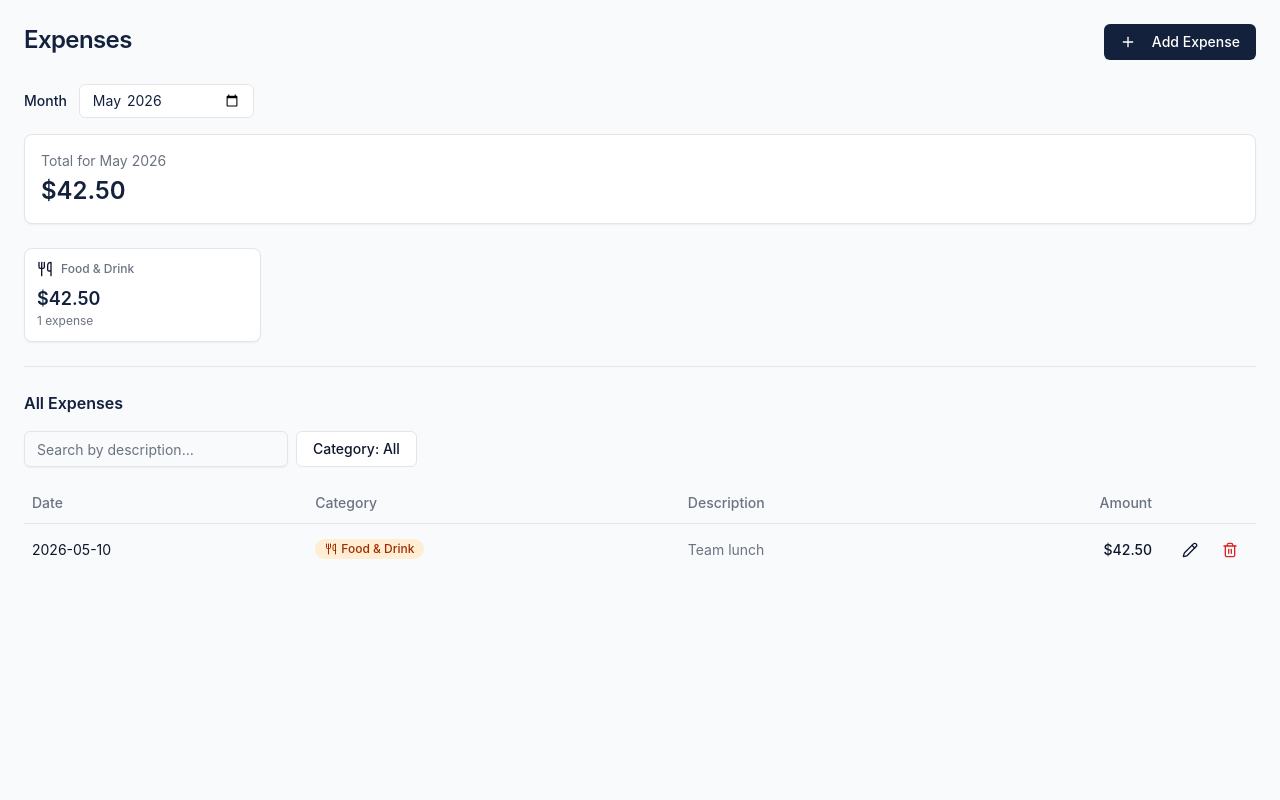
Test case: ExpensesPage › opens the form sheet when Add Expense clicked
Click the button with test id "btn-new-expense": click(1180, 42) [1104,24,1256,60]
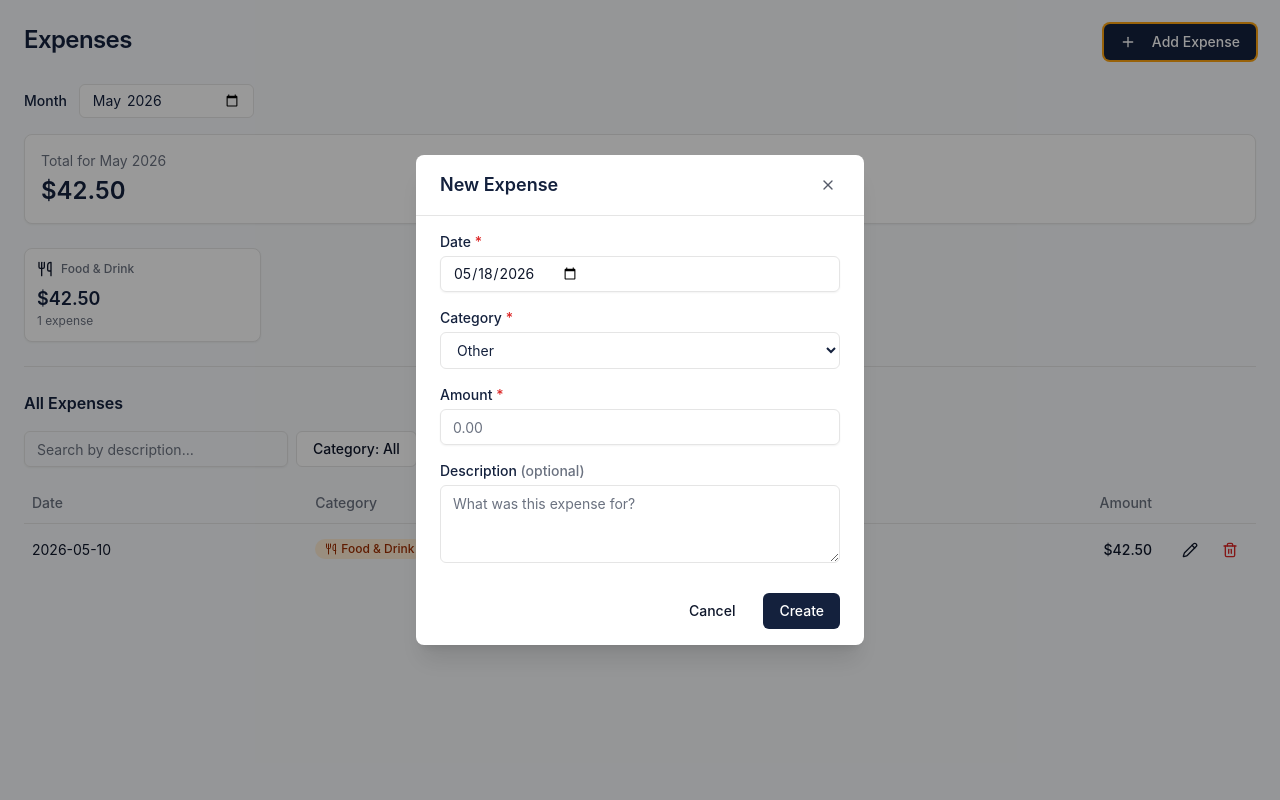
Now the dialog with test id "expense-form-sheet" is shown, box [416,155,864,645]
Now the heading "New Expense" is shown, box [440,171,558,199]
